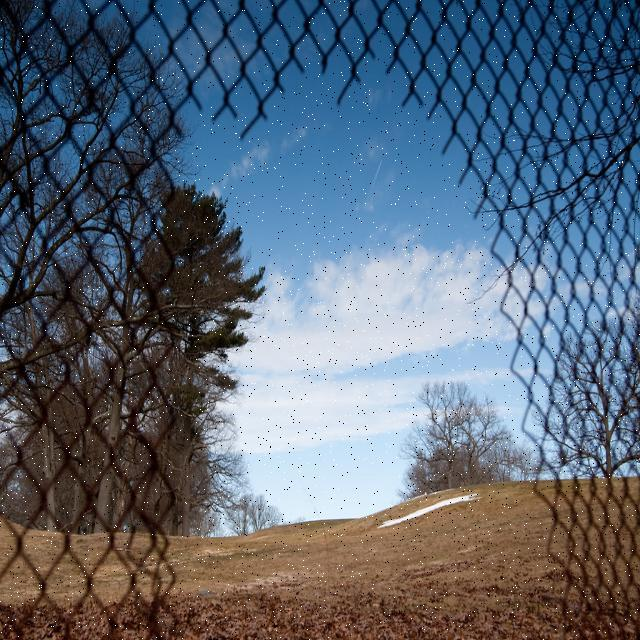fence line: (100, 29, 594, 639)
